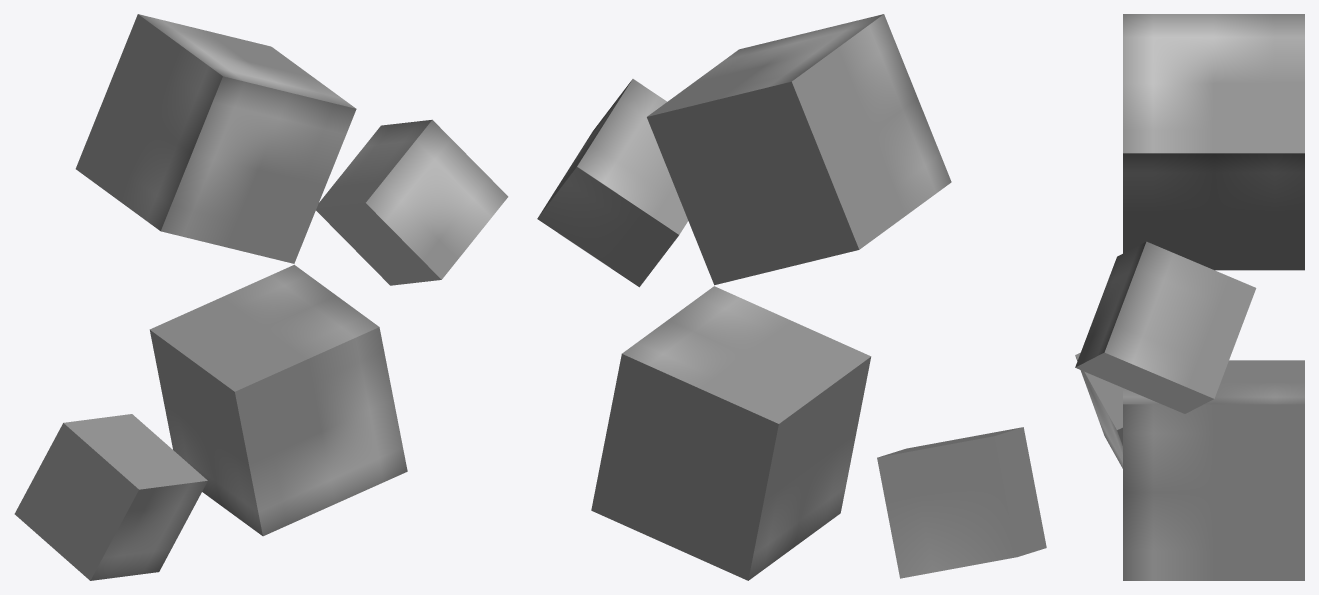
File: tile_silt_extra.fbx
3 views of the same model, side by side, from view 1: azimuth 30°, elevation 25°; view 2: azimuth 150°, elevation 25°; view 3: azimuth 270°, elevation 25° (orthographic). The views are drawn at different scales.
Visible parts, largest first — view 1: tile_silt_extra; view 2: tile_silt_extra; view 3: tile_silt_extra.
Part boxes in pixels (box(x1,y1,x2,y2)): tile_silt_extra: box(14, 14, 508, 580); tile_silt_extra: box(537, 14, 1046, 580); tile_silt_extra: box(1075, 14, 1304, 580).
Size of the model in its own units: 0.4736 by 1.19 by 1.13.
